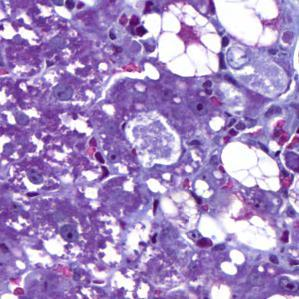ballooning: (138, 0, 224, 81), (209, 4, 285, 52), (220, 138, 283, 195), (218, 201, 281, 254)
